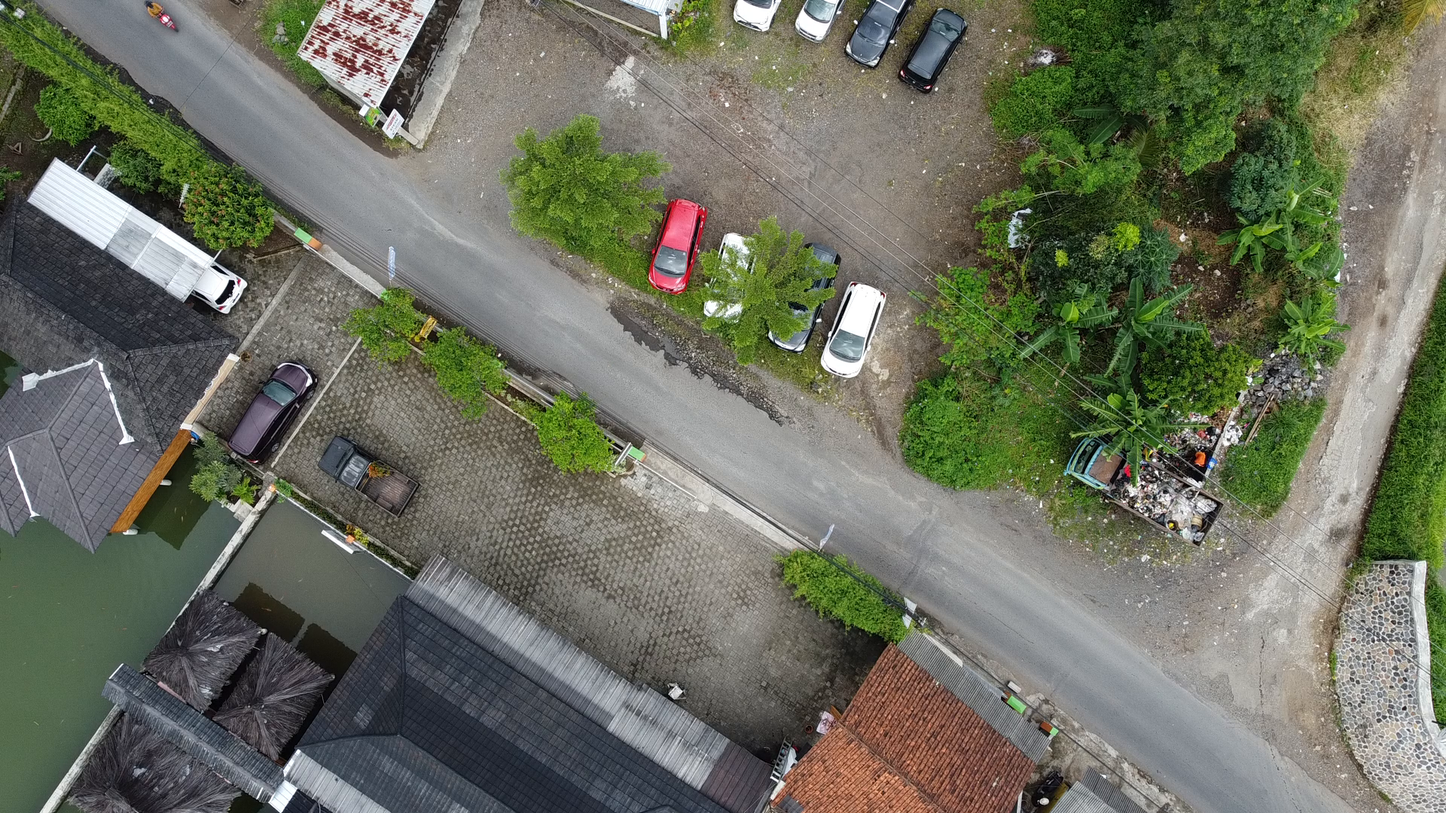mobil: (208, 355, 323, 463), (317, 419, 428, 519), (757, 236, 844, 357), (895, 7, 976, 110), (822, 275, 894, 385), (644, 191, 706, 297), (703, 221, 755, 322), (841, 4, 904, 81), (194, 258, 252, 319)
